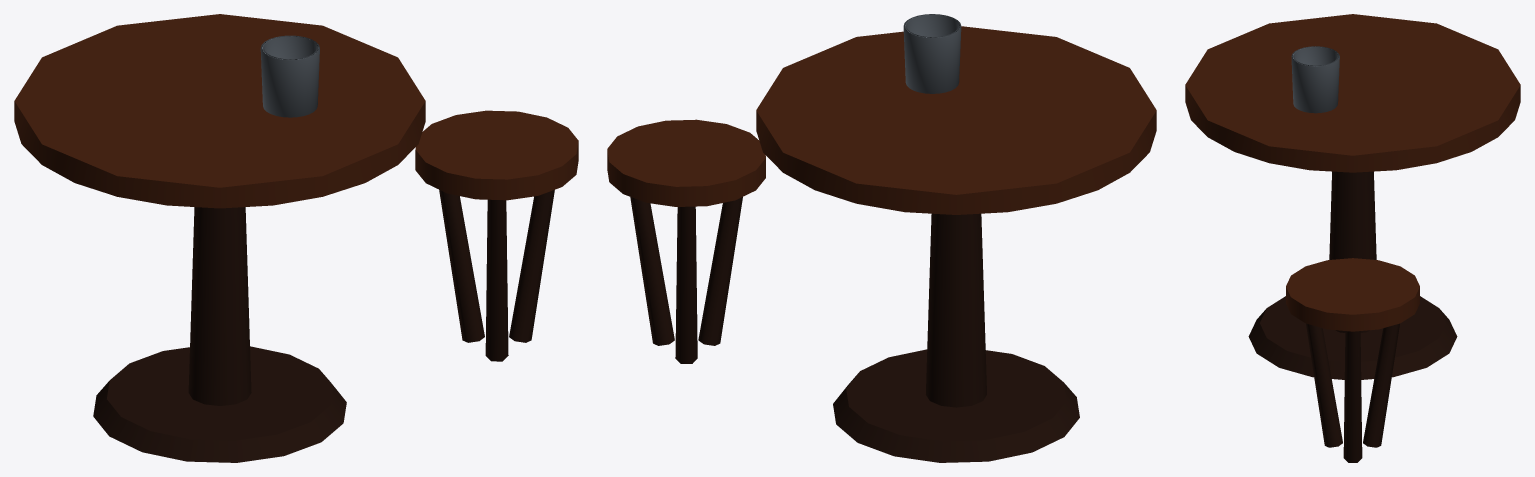
The model's file is tavern-stool-table.glb.
3 views of the same model, side by side, from view 1: azimuth 30°, elevation 25°; view 2: azimuth 150°, elevation 25°; view 3: azimuth 270°, elevation 25° (orthographic). The views are drawn at different scales.
Parts seen in each view (by area): view 1: Tabletop, Table Foot, Stool Seat, Table Leg, Mug, Stool Leg 2, Stool Leg 3, Stool Leg 1; view 2: Tabletop, Table Foot, Stool Seat, Table Leg, Mug, Stool Leg 3, Stool Leg 1, Stool Leg 2; view 3: Tabletop, Table Foot, Stool Seat, Table Leg, Mug, Stool Leg 1, Stool Leg 2, Stool Leg 3.
Boxes of the visible parts, box(x1,y1,x2,y2) form: Tabletop: box(14, 14, 425, 208); Table Foot: box(93, 346, 346, 462); Stool Seat: box(415, 110, 578, 200); Table Leg: box(188, 207, 251, 405); Mug: box(260, 35, 319, 117); Stool Leg 2: box(485, 199, 508, 361); Stool Leg 3: box(439, 189, 484, 342); Stool Leg 1: box(509, 190, 554, 342); Tabletop: box(756, 26, 1156, 214); Table Foot: box(833, 349, 1079, 462); Stool Seat: box(607, 119, 765, 206); Table Leg: box(926, 213, 986, 407); Mug: box(903, 14, 961, 93); Stool Leg 3: box(675, 206, 697, 363); Stool Leg 1: box(630, 197, 674, 345); Stool Leg 2: box(698, 197, 742, 345); Tabletop: box(1185, 14, 1520, 172); Table Foot: box(1248, 296, 1457, 379); Stool Seat: box(1286, 258, 1419, 331); Table Leg: box(1329, 171, 1376, 332); Mug: box(1291, 46, 1339, 113); Stool Leg 1: box(1343, 331, 1362, 462); Stool Leg 2: box(1306, 323, 1342, 447); Stool Leg 3: box(1363, 323, 1399, 447).
Size of the model in its own units: 1.33 by 0.8952 by 0.9.
